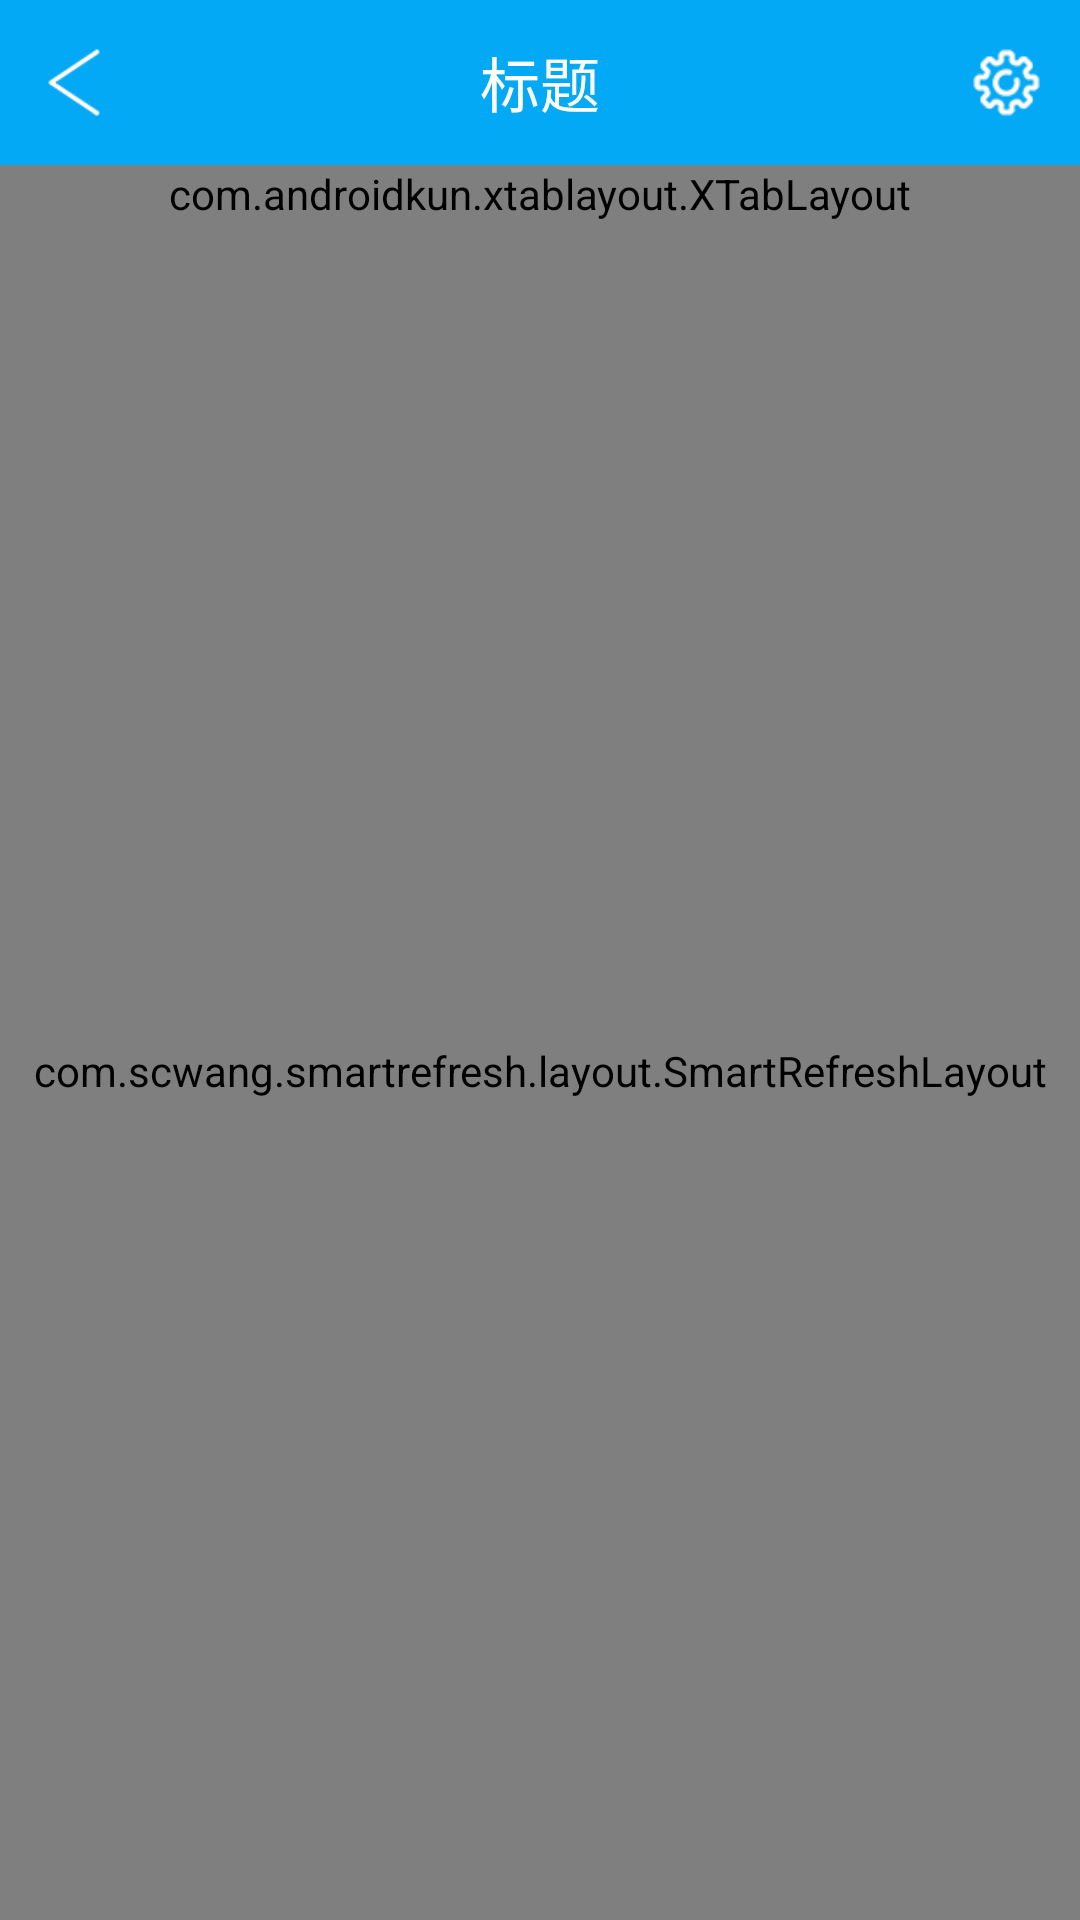

Named icons in this screenshot (1080 x 1920) and their centers, (x,y):
left: (74,82)
setter: (1006,82)
